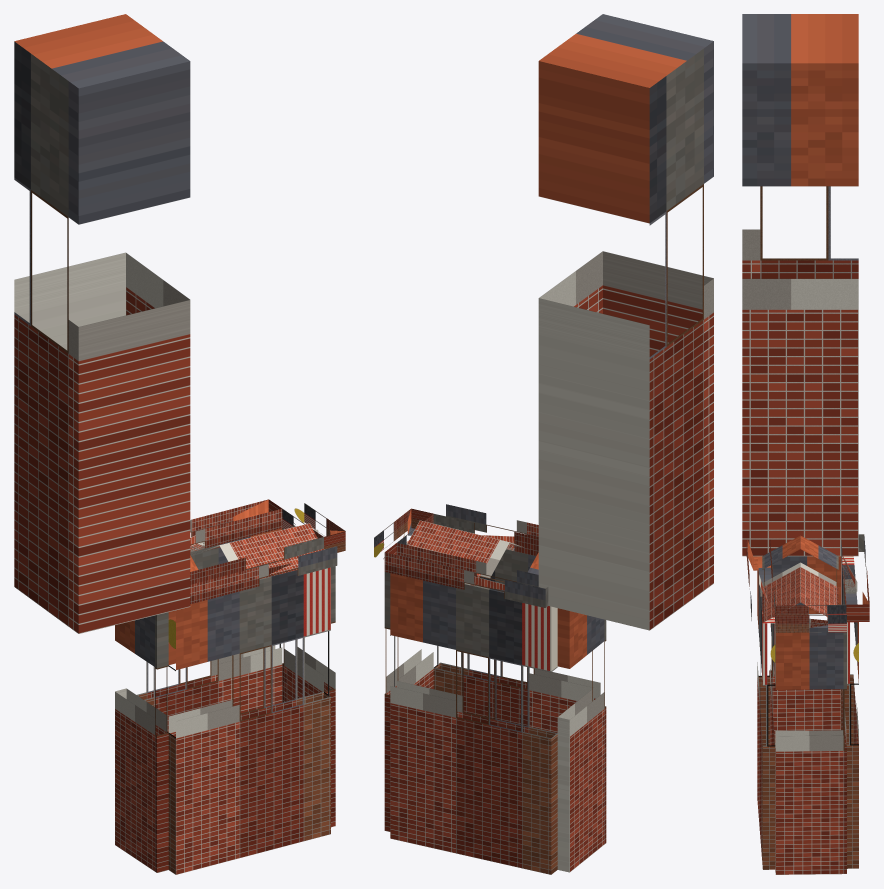
3 renders of one model, left to right at view 1: azimuth 30°, elevation 25°; view 2: azimuth 150°, elevation 25°; view 3: azimuth 270°, elevation 25°, orthographic. The views are drawn at different scales.
Parts seen in each view (by area): view 1: 1106964412__chimney_0_xb, 1106964412__wall_3_xb, 1106964412__wall_0_xb, 1106964412__wall_1_xb, 1106964412__cornice_3, 1106964412__wall_2_xb, 1106964412__cornice_1, 1106964412_roof_-1_xb, 1106964412__cornice_2; view 2: 1106964412__chimney_0_xb, 1106964412__wall_1_xb, 1106964412__wall_0_xb, 1106964412__wall_3_xb, 1106964412__cornice_1, 1106964412_roof_1_xb, 1106964412__wall_2_xb, 1106964412__cornice_3, 1106964412__cornice_2; view 3: 1106964412__chimney_0_xb, 1106964412__wall_2_xb, 1106964412__wall_3_xb, 1106964412__wall_0_xb, 1106964412__wall_1_xb, 1106964412_roof_-1_xb, 1106964412_roof_1_xb, 1106964412__cornice_2, 1106964412__cornice_1, 1106964412__cornice_3.
Boxes of the visible parts, x1,y1,x2,y2 form: 1106964412__chimney_0_xb: (14, 14, 190, 633); 1106964412__wall_3_xb: (168, 567, 330, 874); 1106964412__wall_0_xb: (115, 612, 168, 872); 1106964412__wall_1_xb: (137, 528, 282, 732); 1106964412__cornice_3: (190, 537, 337, 604); 1106964412__wall_2_xb: (282, 525, 335, 827); 1106964412__cornice_1: (190, 499, 282, 550); 1106964412_roof_-1_xb: (190, 523, 324, 578); 1106964412__cornice_2: (282, 503, 345, 552); 1106964412__chimney_0_xb: (538, 14, 713, 630); 1106964412__wall_1_xb: (390, 573, 557, 874); 1106964412__wall_0_xb: (557, 608, 606, 872); 1106964412__wall_3_xb: (433, 546, 600, 732); 1106964412__cornice_1: (384, 543, 548, 607); 1106964412_roof_1_xb: (406, 520, 538, 582); 1106964412__wall_2_xb: (384, 541, 433, 831); 1106964412__cornice_3: (433, 504, 538, 555); 1106964412__cornice_2: (374, 508, 433, 558); 1106964412__chimney_0_xb: (742, 14, 858, 556); 1106964412__wall_2_xb: (775, 625, 846, 874); 1106964412__wall_3_xb: (757, 556, 775, 869); 1106964412__wall_0_xb: (769, 556, 840, 743); 1106964412__wall_1_xb: (841, 556, 858, 868); 1106964412_roof_-1_xb: (762, 535, 800, 622); 1106964412_roof_1_xb: (800, 536, 838, 616); 1106964412__cornice_2: (775, 604, 846, 632); 1106964412__cornice_1: (841, 534, 869, 622); 1106964412__cornice_3: (746, 540, 775, 621).
Bounding box in the file's own units: 0.3837 × 1.05 × 0.1641.
Materials: 1 (1 with a texture image).
